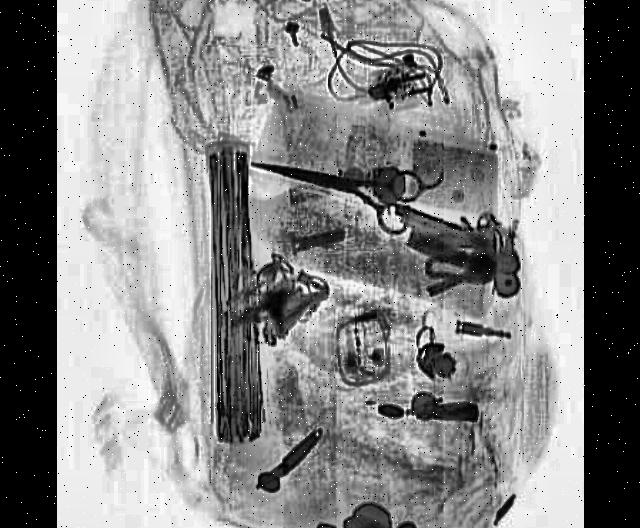Scissors: (245, 136, 420, 242)
